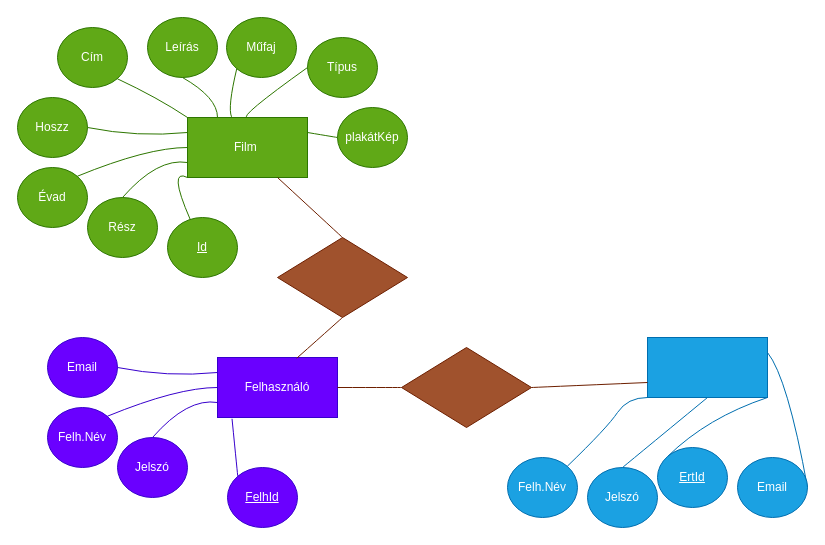
The diagram is 825 pixels wide and 545 high, and some of its shapes have lost their labels. The centre of each missing label's shape, as x and y in pixels:
Megír: (x=466, y=387)
Ment: (x=342, y=277)
Értékelés: (x=707, y=367)
